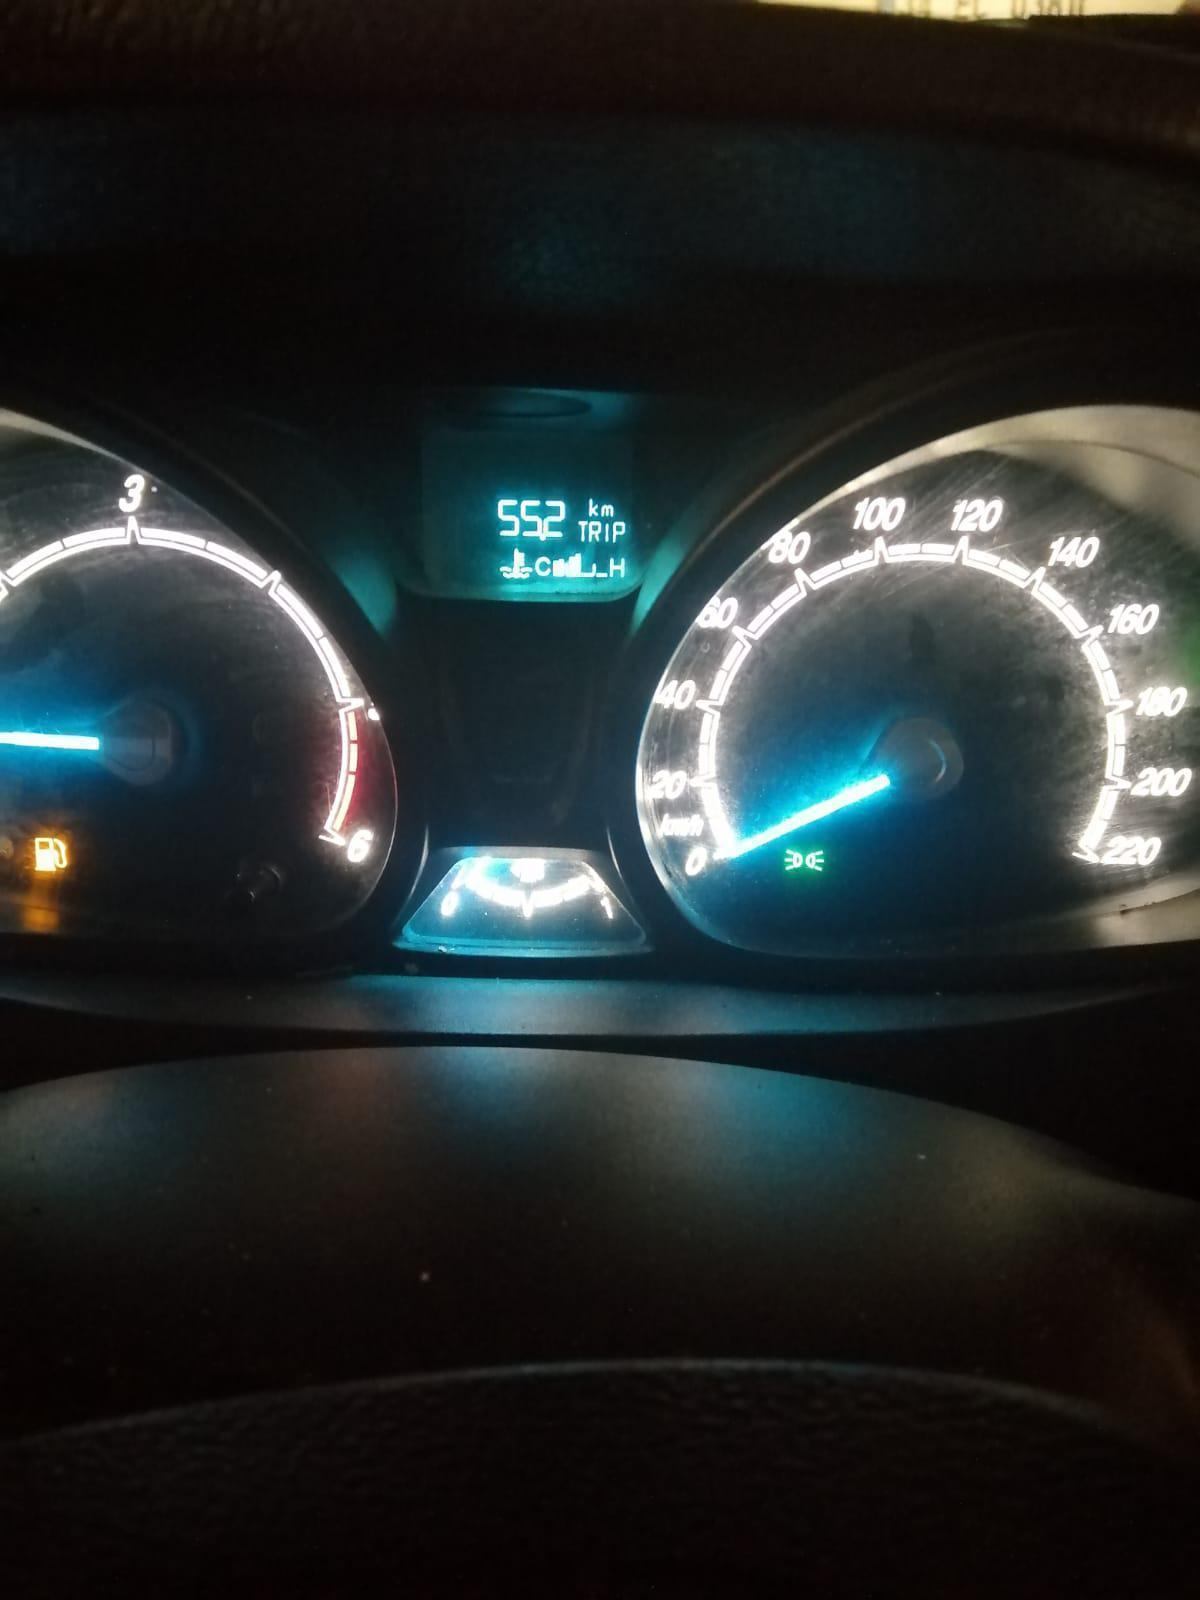,: (538, 533, 548, 542)
2: (542, 496, 570, 537)
5: (494, 496, 521, 535), (519, 495, 545, 535)
X: (608, 556, 625, 578), (534, 556, 551, 577), (613, 520, 628, 543), (587, 520, 603, 542), (587, 496, 600, 517), (577, 519, 587, 542), (601, 503, 615, 517), (604, 522, 611, 543)
odometer: (424, 470, 650, 598)
